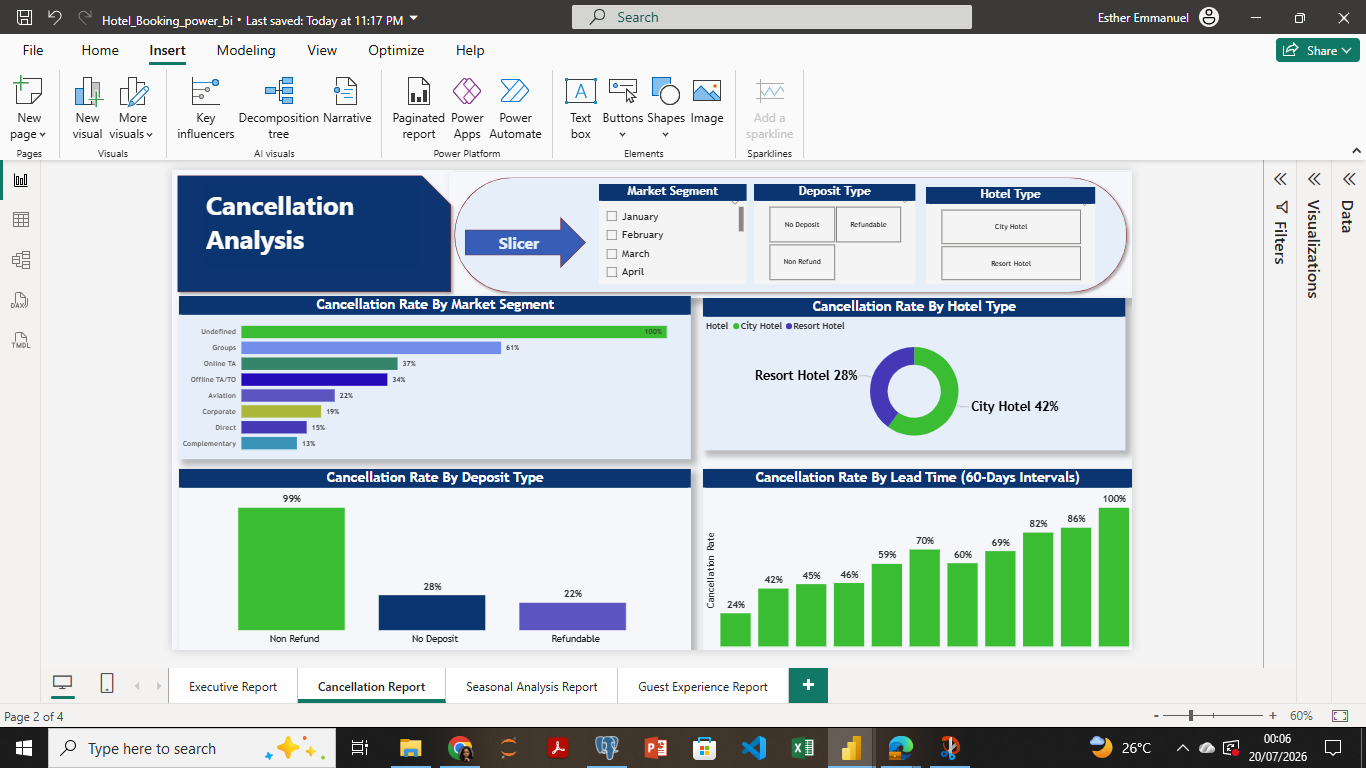

The page's visual inventory and layout, read from the dashboard file:
{"tool":"powerbi","page":{"name":"Cancellation Report","canvas":[1600,800],"ordinal":1},"visuals":[{"type":"shape","box":[0,0,474,212.6],"z":0},{"type":"textbox","box":[52,23.6,359.1,140.2],"z":1000},{"type":"shape","title":"Market","box":[461.1,3.4,1138.9,209.9],"z":2000},{"type":"slicer","title":"Market Segment","fields":{"Values":["hotel_bookings.Arrival Date Month"]},"box":[711.8,23.6,245.7,166.9],"z":3000},{"type":"barChart","title":"Cancellation  Rate By Market Segment","fields":{"Category":["hotel_bookings.Market Segment"],"Y":["hotel_bookings.Cancellation Rate"]},"box":[11,209.4,859.8,576.4],"z":4000},{"type":"treemap","title":"Cancellation  Rate By Deposit Type","fields":{"Values":["hotel_bookings.Cancellation Rate"],"Group":["hotel_bookings.Deposit Type"]},"box":[885,481.9,703.9,303.9],"z":5000},{"type":"clusteredBarChart","title":"Cancellation  Rate By Hotel Type","fields":{"Category":["hotel_bookings.Hotel"],"Y":["hotel_bookings.Cancellation Rate"]},"box":[885,212.6,703.9,253.5],"z":6000},{"type":"slicer","title":"Hotel Type","fields":{"Values":["hotel_bookings.Hotel"]},"box":[1256.7,28.3,281.9,162.2],"z":7000},{"type":"slicer","title":"Deposit Type","fields":{"Values":["hotel_bookings.Deposit Type"]},"box":[970.1,23.6,269.3,166.9],"z":8000},{"type":"shape","box":[488.2,78.7,201.6,85],"z":9000}]}

Visuals, with their boxes on the page's 1600x800 design canvas (x1, y1, x2, y2). These are canvas units, not pixel positions in the 1366x768 screenshot, which may show the page scaled, cropped or inside an application window:
shape: [left=0, top=0, right=474, bottom=213]
textbox: [left=52, top=24, right=411, bottom=164]
"Market" shape: [left=461, top=3, right=1600, bottom=213]
"Market Segment" slicer: [left=712, top=24, right=958, bottom=190]
"Cancellation  Rate By Market Segment" barChart: [left=11, top=209, right=871, bottom=786]
"Cancellation  Rate By Deposit Type" treemap: [left=885, top=482, right=1589, bottom=786]
"Cancellation  Rate By Hotel Type" clusteredBarChart: [left=885, top=213, right=1589, bottom=466]
"Hotel Type" slicer: [left=1257, top=28, right=1539, bottom=190]
"Deposit Type" slicer: [left=970, top=24, right=1239, bottom=190]
shape: [left=488, top=79, right=690, bottom=164]
